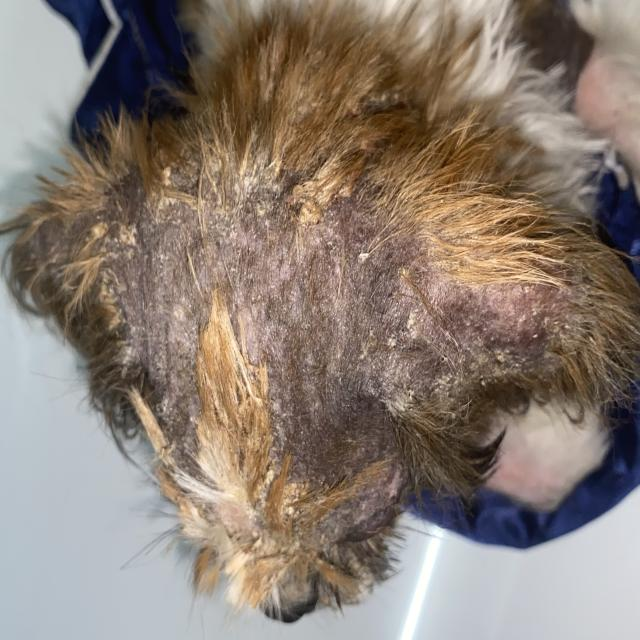demodicosis: (249, 198, 466, 445), (118, 214, 226, 392)
